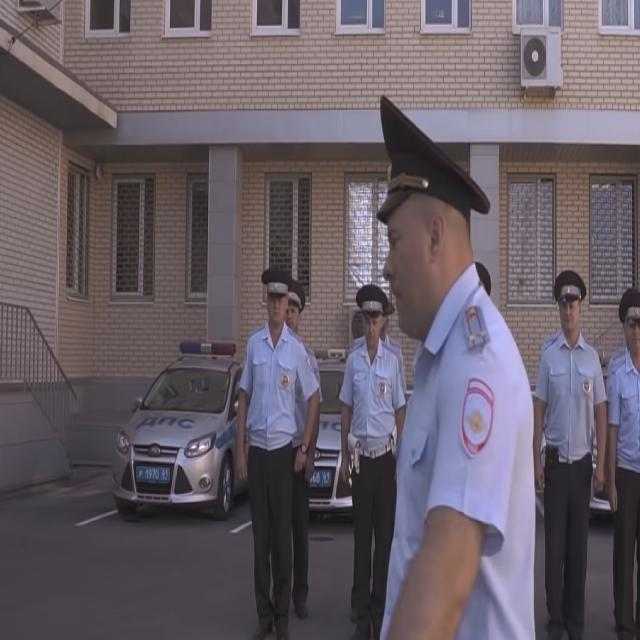police car: (115, 325, 250, 521), (307, 342, 358, 523)
